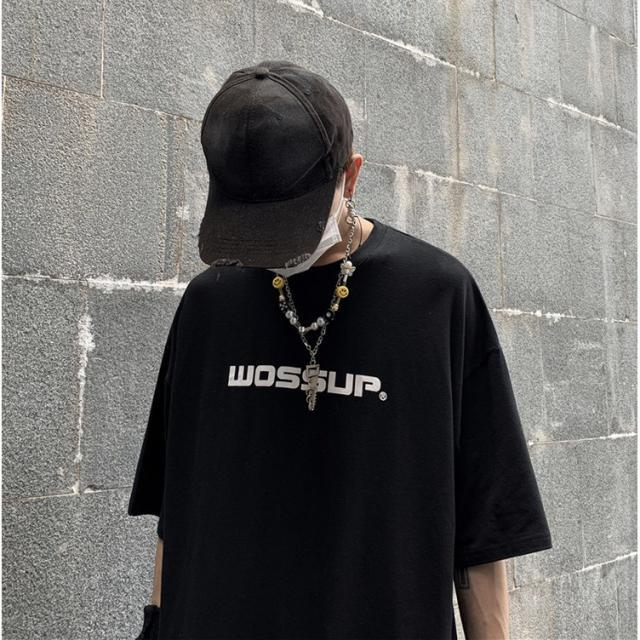shirt: (124, 218, 557, 640)
